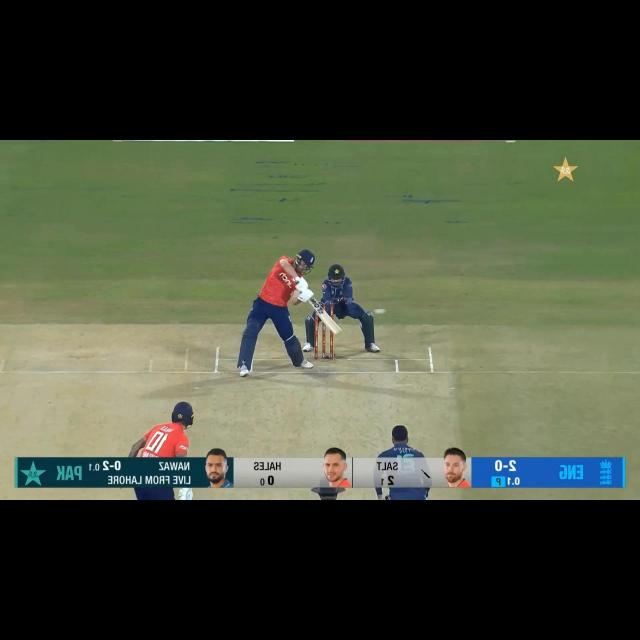bat: (307, 296, 343, 336), (178, 490, 190, 500)
toe: (328, 324, 342, 334)
